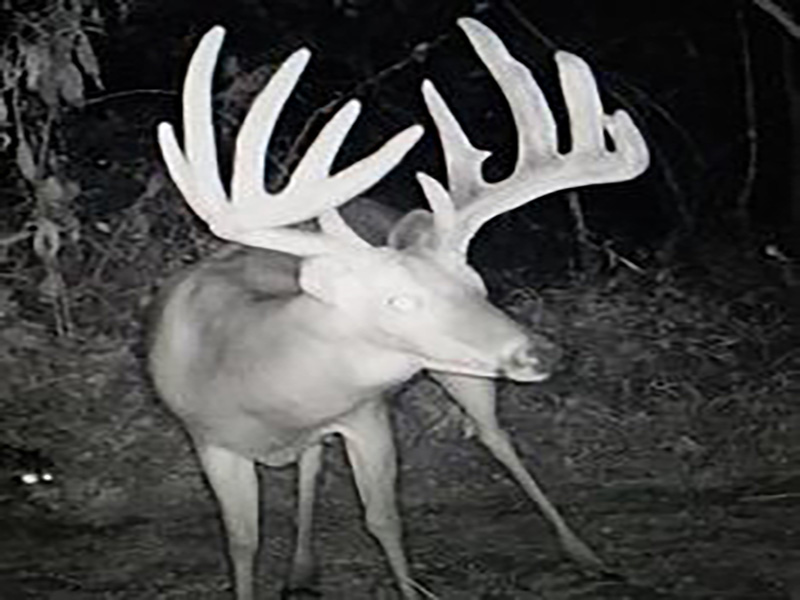cervo: (148, 9, 651, 600)
